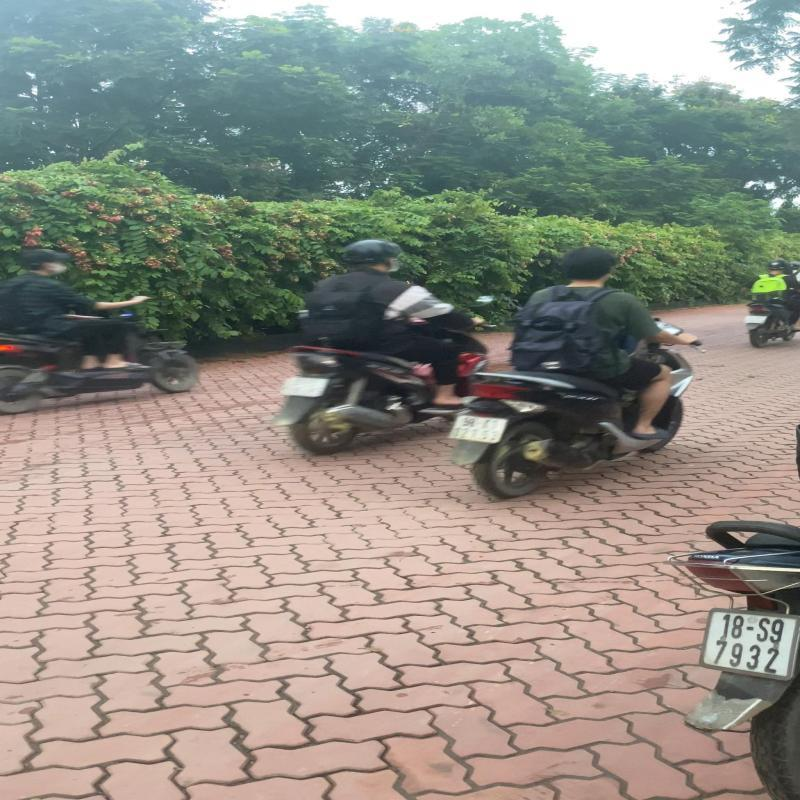licenseplate: (449, 414, 508, 444)
motorcyclist: (445, 245, 709, 499)
nohelmet: (564, 246, 618, 283)
